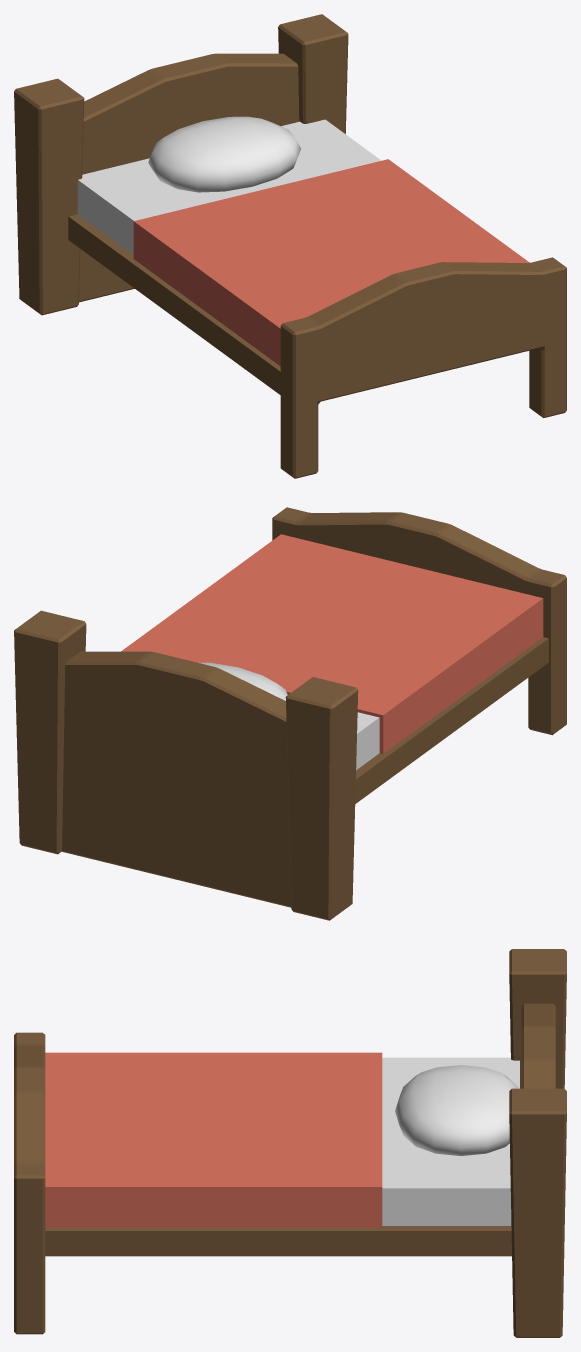
Rendered from Bed_01.fbx.
The picture shows the model from 3 angles, top to bottom: view 1: azimuth 30°, elevation 25°; view 2: azimuth 150°, elevation 25°; view 3: azimuth 270°, elevation 25°; orthographic projection. The views are drawn at different scales.
Parts seen in each view (by area): view 1: Bed_01; view 2: Bed_01; view 3: Bed_01.
Part boxes in pixels (bbox=[...]): Bed_01: bbox=[14, 14, 566, 478]; Bed_01: bbox=[14, 507, 566, 920]; Bed_01: bbox=[14, 949, 566, 1337].
Size of the model in its own units: 1.86 by 1.21 by 2.65.
